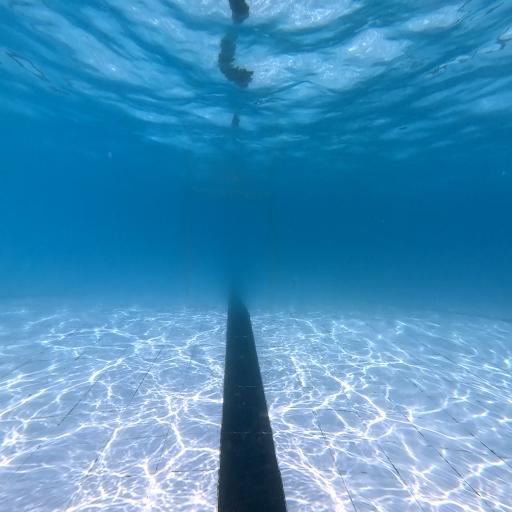gate: (184, 194, 276, 311)
